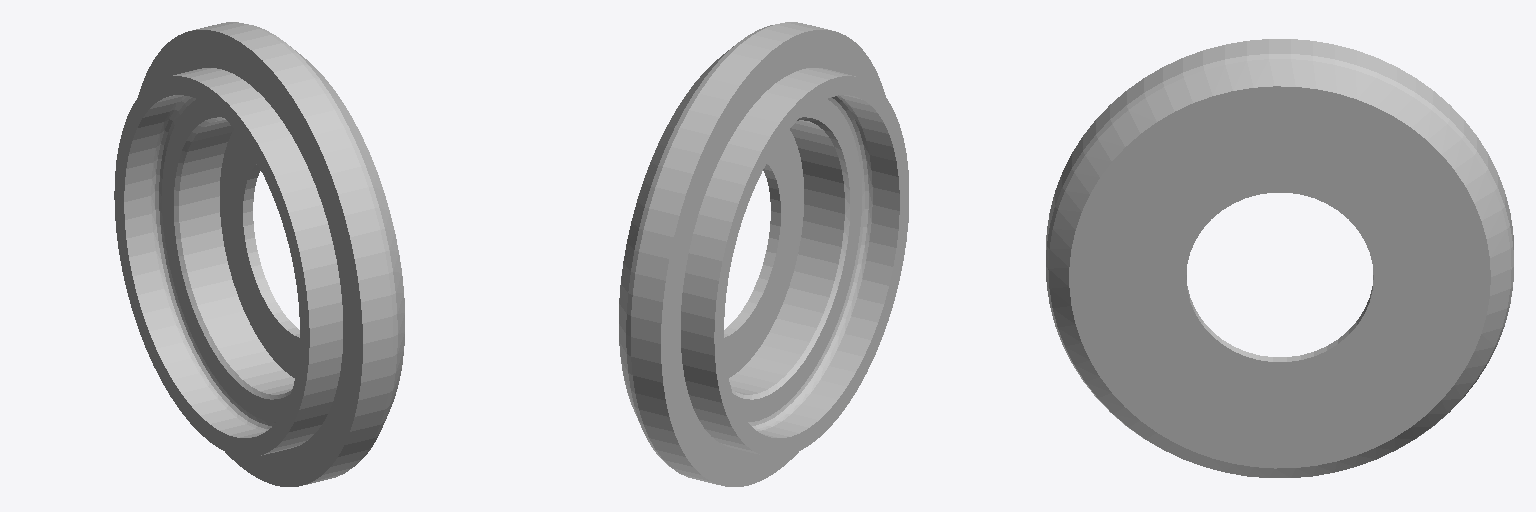
The model's file is N3-002_pc_gfx.obj.
3 renders of one model, left to right at view 1: azimuth 30°, elevation 25°; view 2: azimuth 150°, elevation 25°; view 3: azimuth 270°, elevation 25°, orthographic.
Parts seen in each view (by area): view 1: N3-002; view 2: N3-002; view 3: N3-002.
Part boxes in pixels (bbox=[...]): N3-002: bbox=[114, 22, 404, 486]; N3-002: bbox=[619, 22, 908, 486]; N3-002: bbox=[1046, 39, 1513, 477].
Bounding box in the file's own units: 0.1053 × 0.4854 × 0.486.